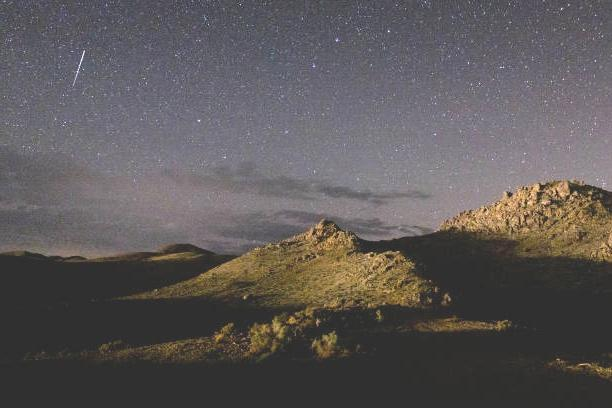meteorite: (59, 47, 92, 94)
